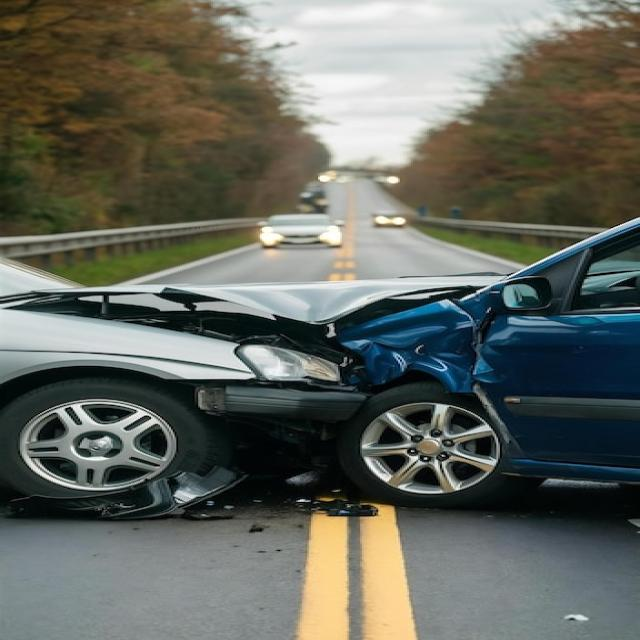Accident: (0, 225, 640, 521)
